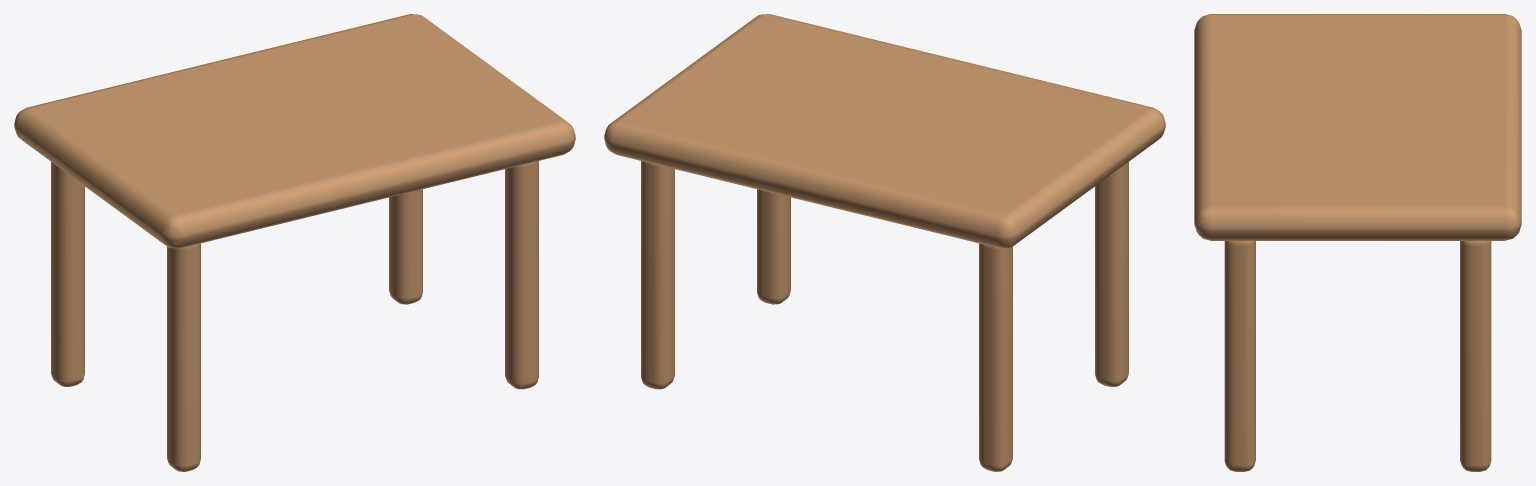
File: officeProjectorStand.glb
3 renders of one model, left to right at view 1: azimuth 30°, elevation 25°; view 2: azimuth 150°, elevation 25°; view 3: azimuth 270°, elevation 25°, orthographic.
Parts seen in each view (by area): view 1: Rounded tabletop, Leg, Leg.002, Leg.001, Leg.003; view 2: Rounded tabletop, Leg.001, Leg.003, Leg, Leg.002; view 3: Rounded tabletop, Leg.002, Leg.003.
Part boxes in pixels (left/top/right/bottom): Rounded tabletop: left=14, top=14, right=575, bottom=248; Leg: left=167, top=243, right=200, bottom=471; Leg.002: left=505, top=161, right=538, bottom=389; Leg.001: left=51, top=162, right=84, bottom=386; Leg.003: left=389, top=189, right=422, bottom=304; Rounded tabletop: left=604, top=14, right=1165, bottom=248; Leg.001: left=979, top=243, right=1012, bottom=471; Leg.003: left=641, top=161, right=674, bottom=389; Leg: left=1095, top=162, right=1128, bottom=386; Leg.002: left=757, top=189, right=790, bottom=304; Rounded tabletop: left=1194, top=14, right=1521, bottom=240; Leg.002: left=1224, top=241, right=1255, bottom=471; Leg.003: left=1460, top=241, right=1491, bottom=471.
Bounding box in the file's own units: 1.7 × 1.06 × 1.15.
